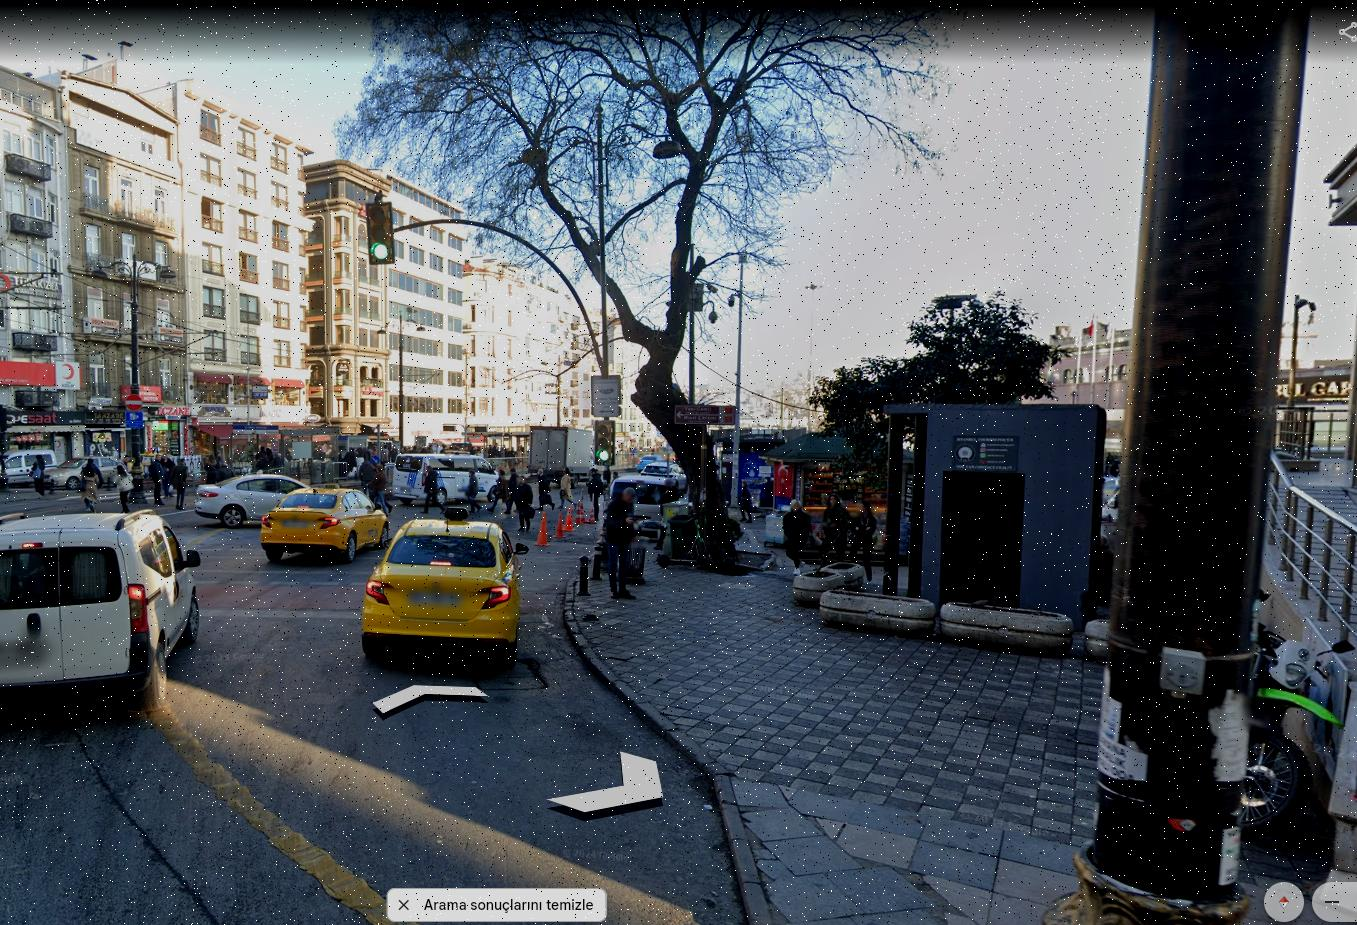greenlight: (367, 203, 396, 261), (594, 419, 616, 466)
